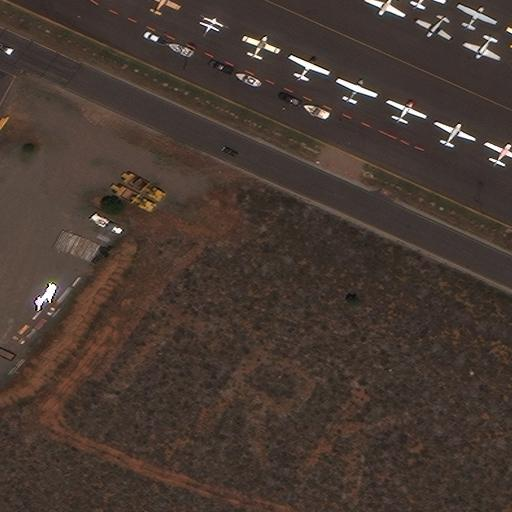Small Civil Transport: (290, 54, 331, 81), (338, 77, 379, 103), (435, 121, 476, 146), (458, 3, 497, 28), (461, 36, 499, 61), (388, 99, 427, 123), (243, 35, 281, 58), (414, 16, 449, 40), (363, 0, 402, 18), (486, 141, 512, 167), (150, 0, 181, 13), (411, 0, 445, 9)
